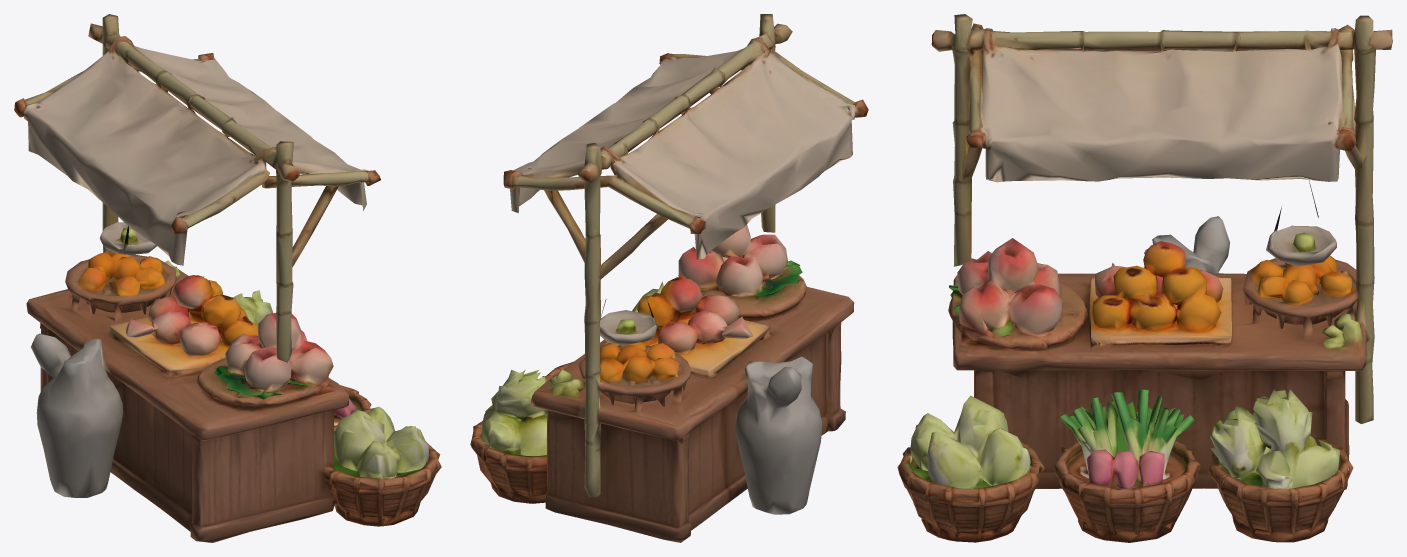
Rendered from stall-fruit.glb.
3 views of the same model, side by side, from view 1: azimuth 30°, elevation 25°; view 2: azimuth 150°, elevation 25°; view 3: azimuth 270°, elevation 25° (orthographic). The views are drawn at different scales.
Parts seen in each view (by area): view 1: tripo_node_a9d37e8f-5555-43ba-b37c-3081a10d3f1d; view 2: tripo_node_a9d37e8f-5555-43ba-b37c-3081a10d3f1d; view 3: tripo_node_a9d37e8f-5555-43ba-b37c-3081a10d3f1d.
Part boxes in pixels (x1=…): tripo_node_a9d37e8f-5555-43ba-b37c-3081a10d3f1d: x1=14, y1=14, x2=441, y2=542; tripo_node_a9d37e8f-5555-43ba-b37c-3081a10d3f1d: x1=470, y1=14, x2=868, y2=542; tripo_node_a9d37e8f-5555-43ba-b37c-3081a10d3f1d: x1=897, y1=14, x2=1392, y2=542.
Size of the model in its own units: 0.7919 by 1 by 0.9907.
Materials: 1 (1 with a texture image).
